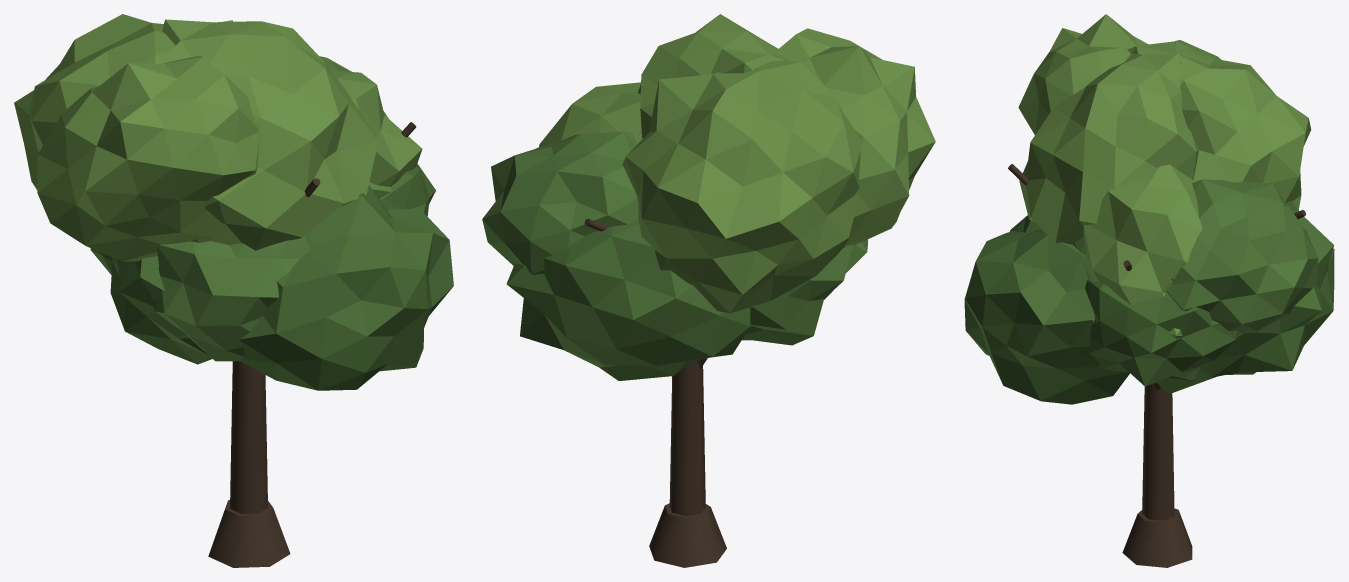
The model's file is tree-broad-1.obj.
3 renders of one model, left to right at view 1: azimuth 30°, elevation 25°; view 2: azimuth 150°, elevation 25°; view 3: azimuth 270°, elevation 25°, orthographic. The views are drawn at different scales.
Visible parts, largest first — view 1: part1; view 2: part1; view 3: part1.
Boxes of the visible parts, x1,y1,x2,y2 form: part1: (14,14,453,567); part1: (482,14,935,567); part1: (964,14,1334,567).
Bounding box in the file's own units: 5.64 × 7.28 × 5.14.
